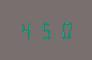five: (37, 20, 54, 39)
four: (18, 20, 35, 40)
zero: (55, 19, 72, 39)
